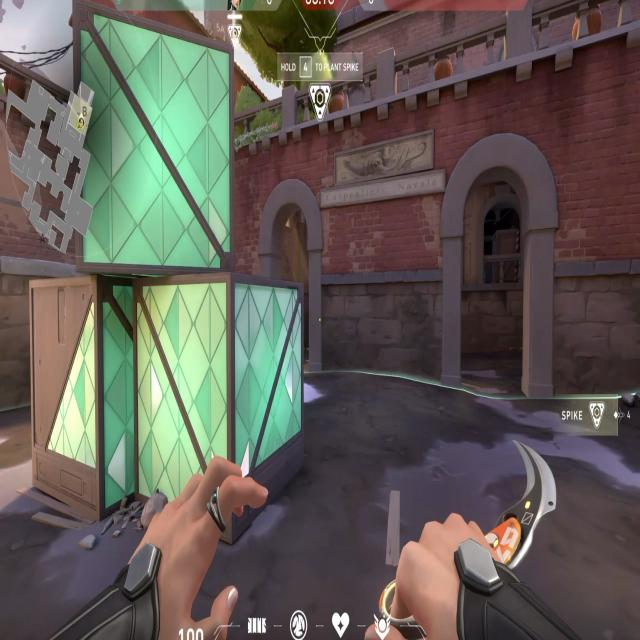B_Boathouse: (439, 133, 557, 414)
B_Site_Box: (23, 0, 320, 550)
